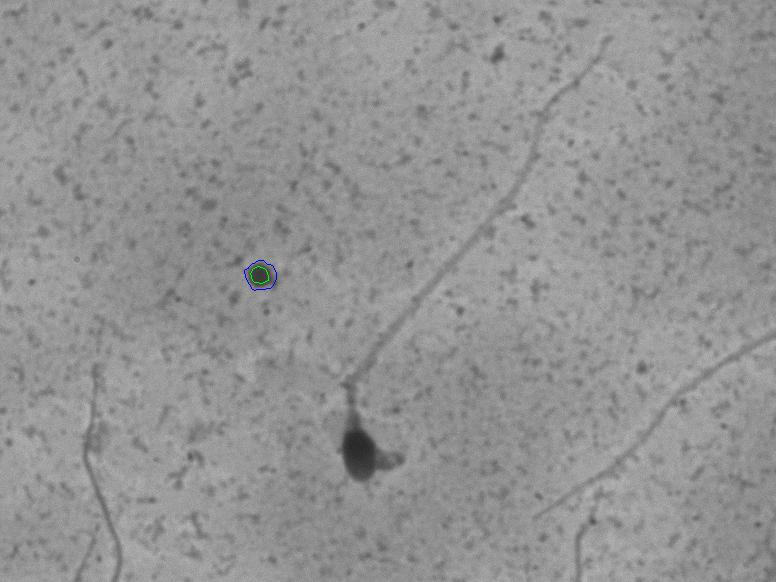Normal: (326, 25, 627, 498)
